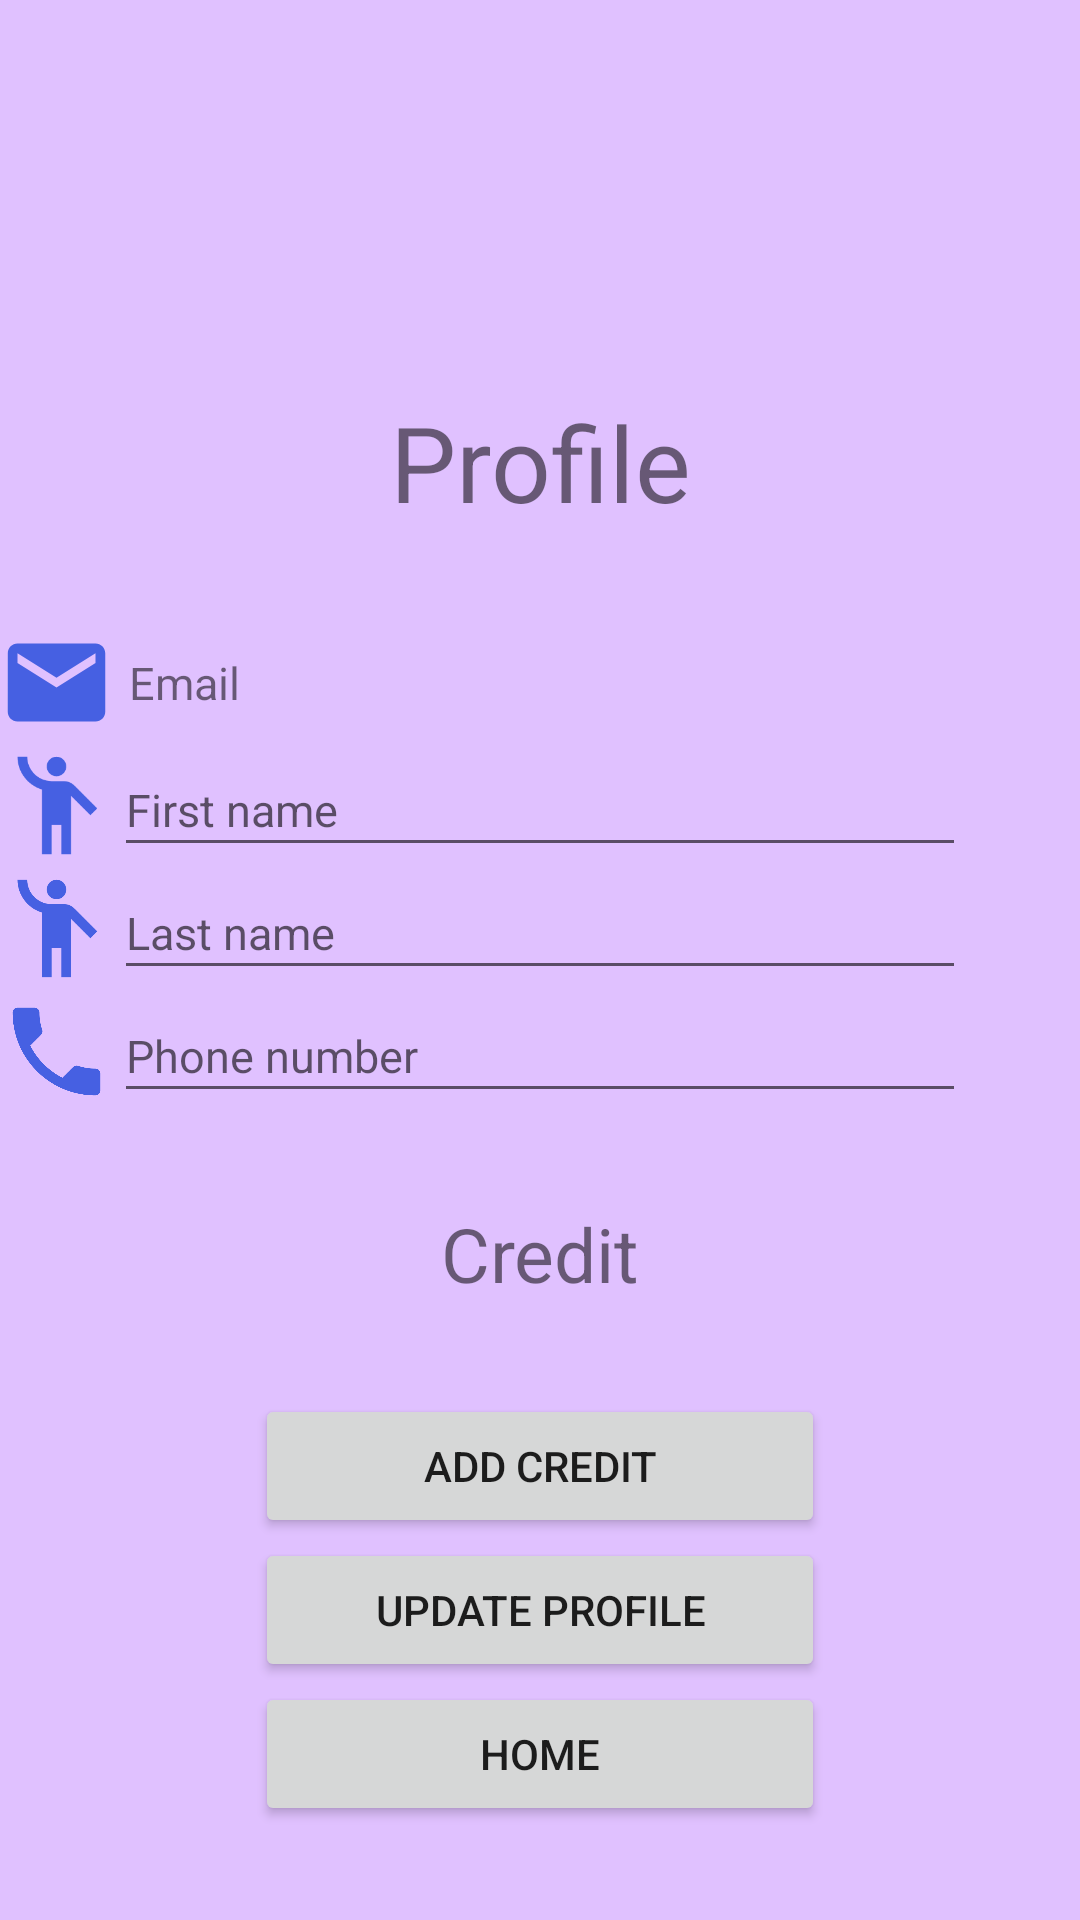

Icon click points for this 1080×1920 phone screenshot, format (x,y):
emoji people: (57,805), (57,928)
